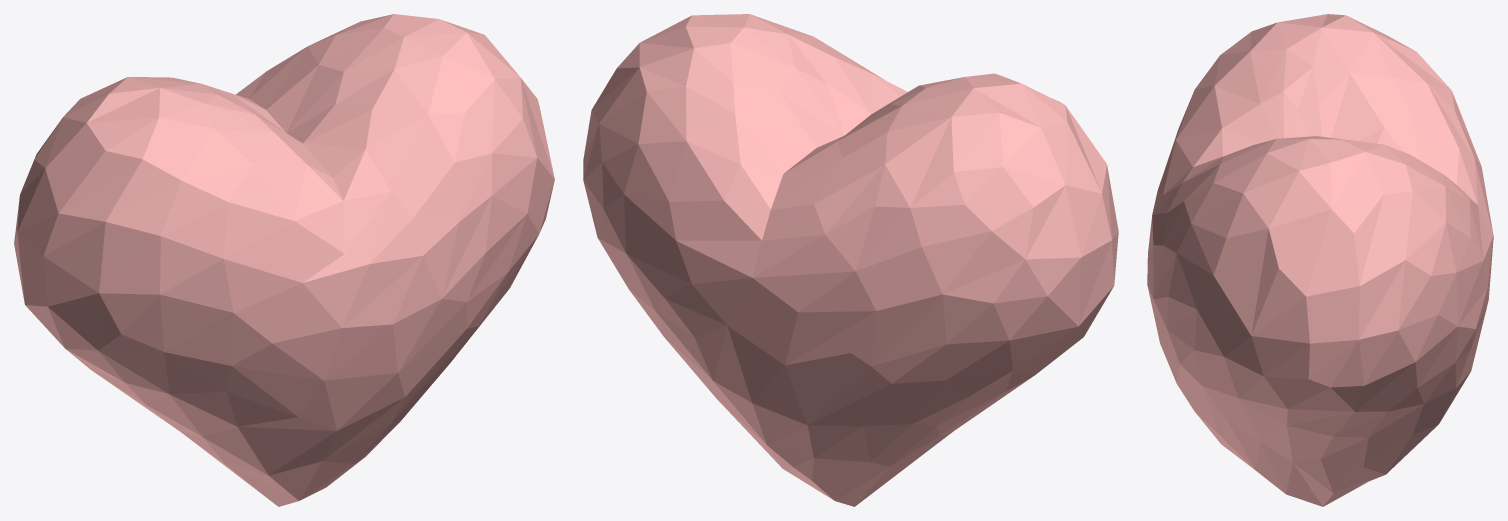
The model's file is hearth.FBX.
3 renders of one model, left to right at view 1: azimuth 30°, elevation 25°; view 2: azimuth 150°, elevation 25°; view 3: azimuth 270°, elevation 25°, orthographic. The views are drawn at different scales.
Parts seen in each view (by area): view 1: Heart; view 2: Heart; view 3: Heart.
Boxes of the visible parts, box(x1,y1,x2,y2) form: Heart: box(14, 14, 554, 506); Heart: box(583, 14, 1118, 506); Heart: box(1147, 14, 1493, 506).
Size of the model in its own units: 483 by 409 by 302.
